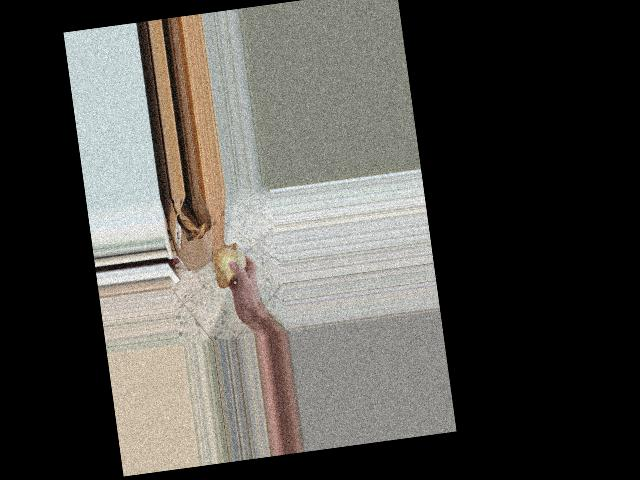onion: (207, 239, 251, 291)
